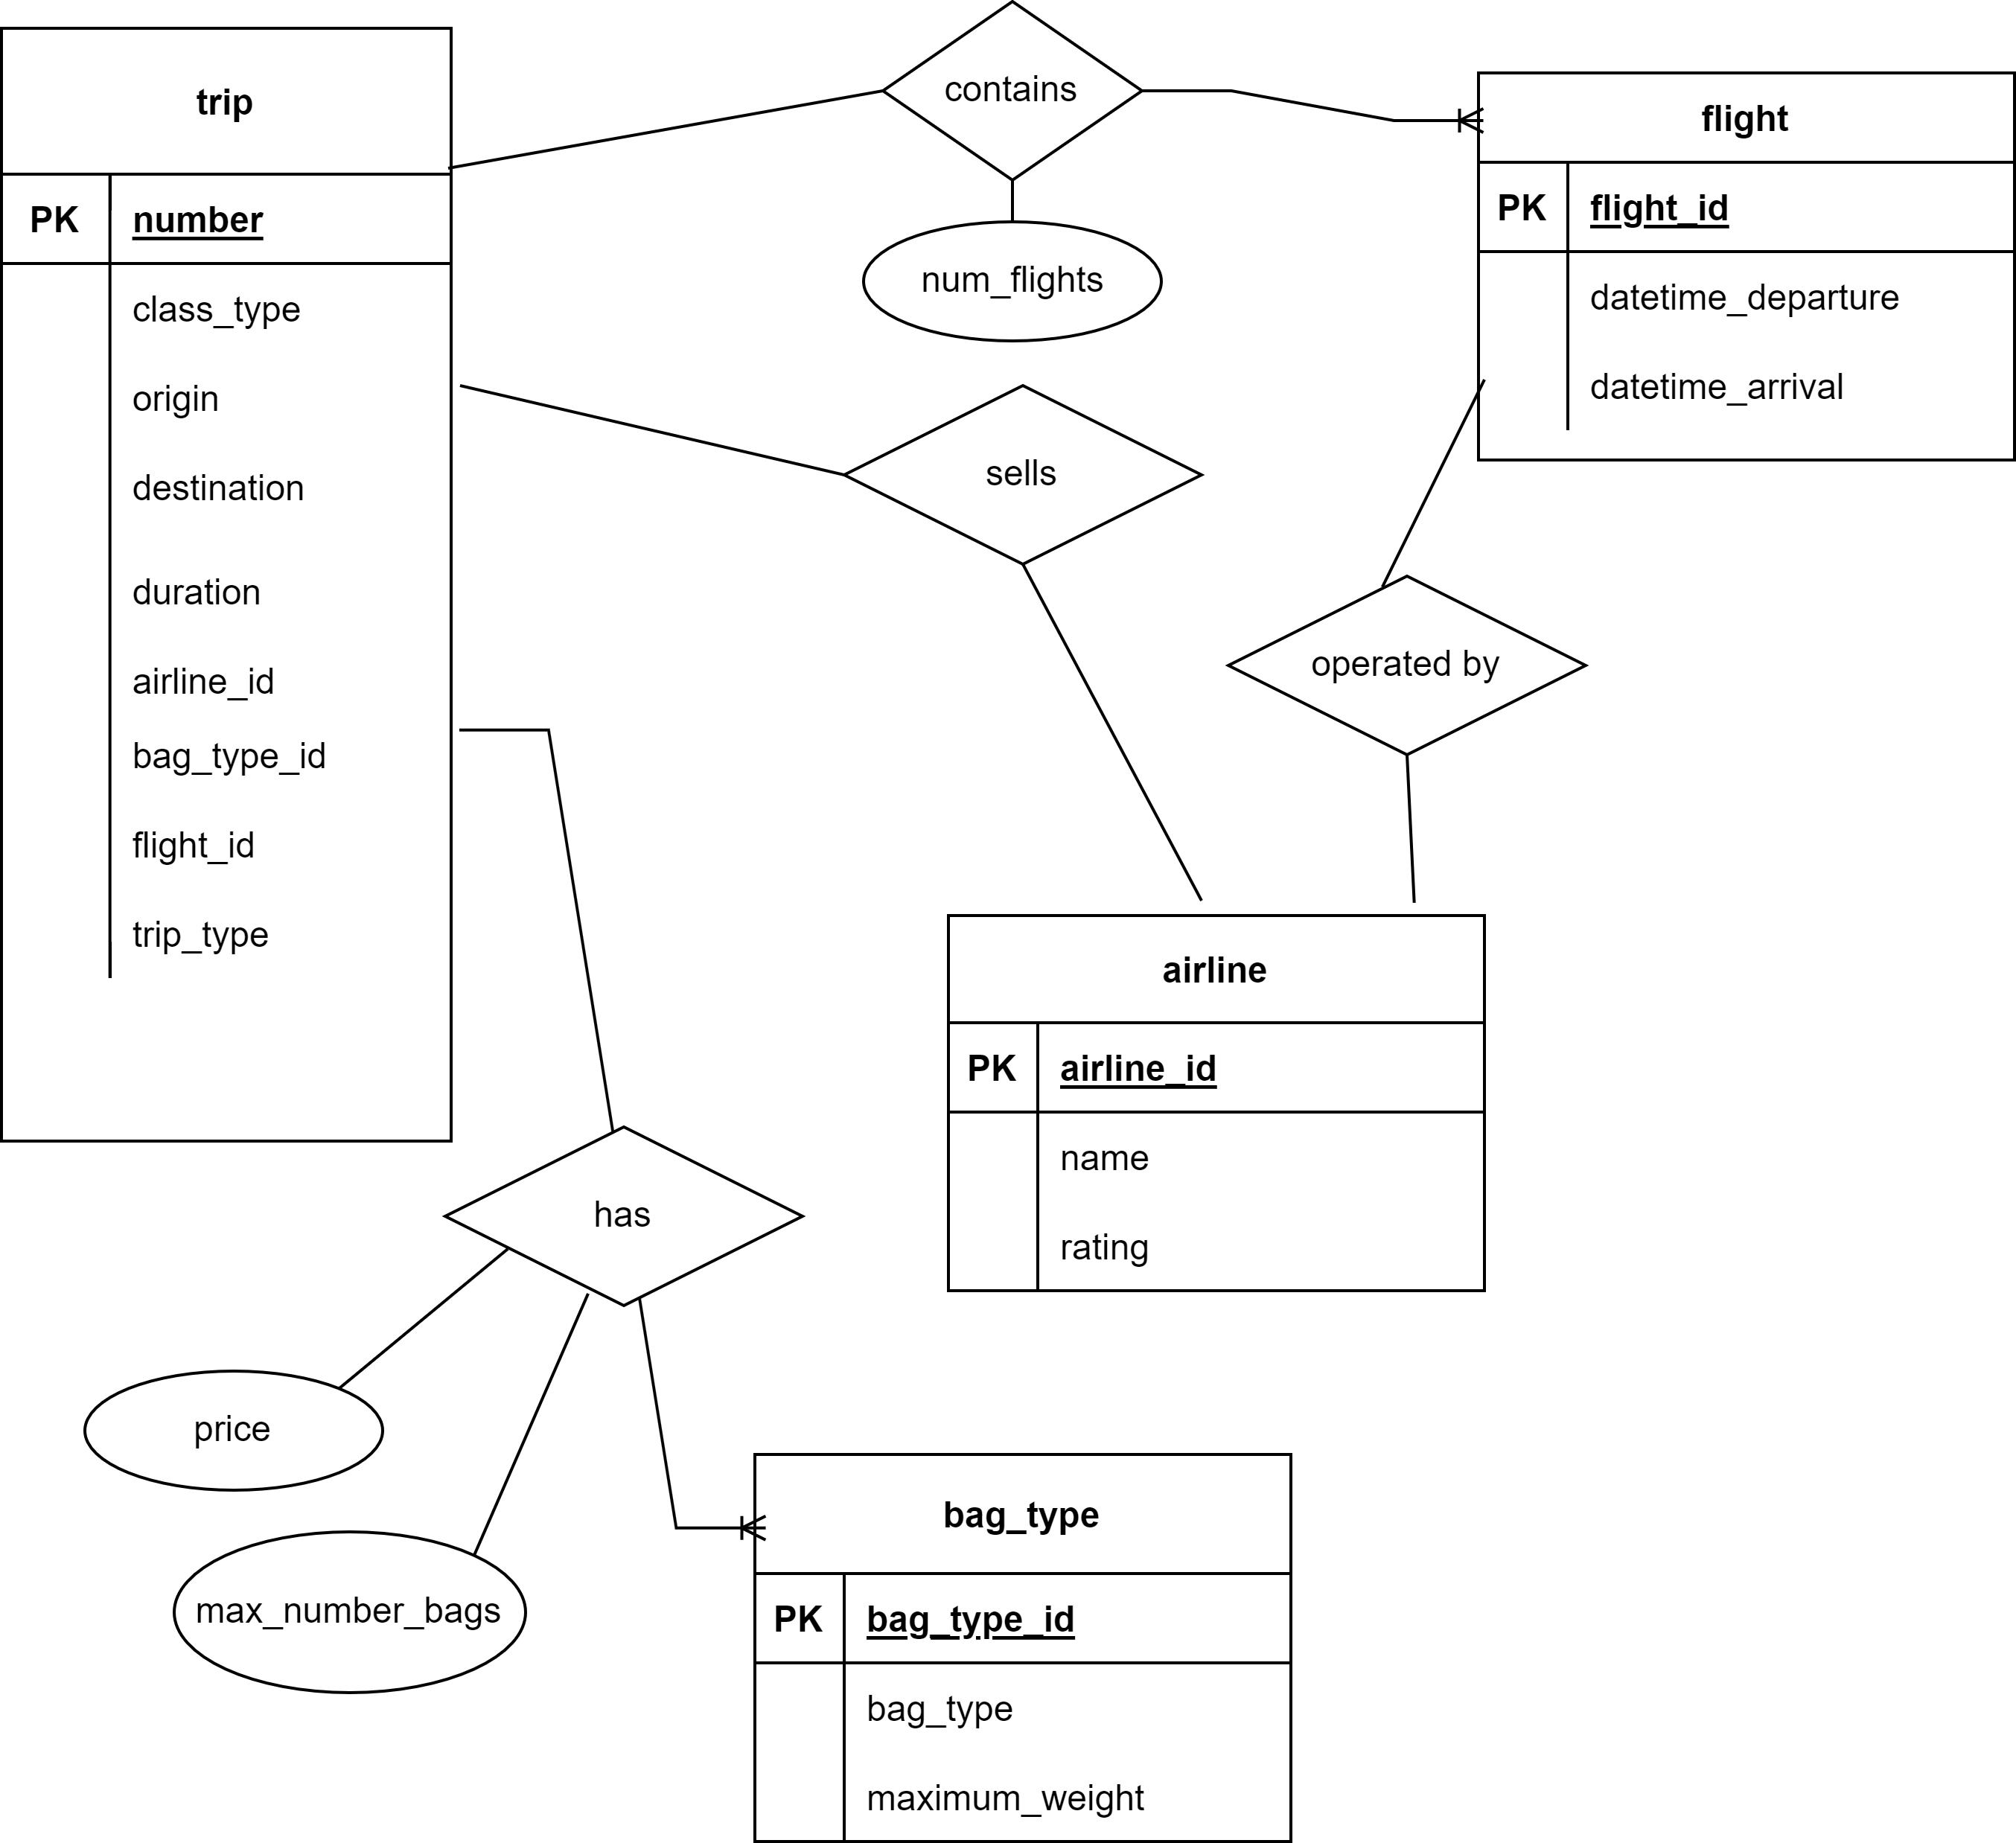attribute: (172, 1532, 522, 1696), (857, 223, 1164, 344), (81, 1373, 379, 1487)
entity: (0, 26, 455, 1146), (752, 1448, 1291, 1843), (941, 907, 1487, 1295)
relationship: (1472, 68, 2016, 465), (850, 377, 1203, 567), (1228, 581, 1586, 755), (446, 1130, 799, 1306), (882, 0, 1138, 177)
